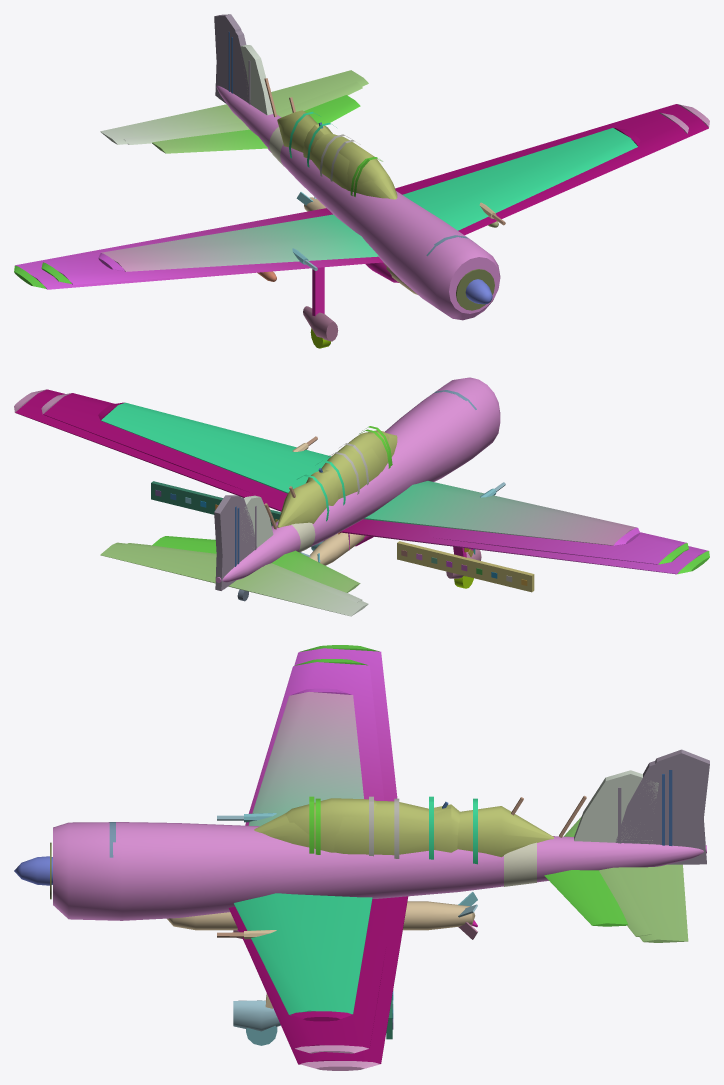
The model's file is planes.glb.
3 views of the same model, one above another, from view 1: azimuth 30°, elevation 25°; view 2: azimuth 150°, elevation 25°; view 3: azimuth 270°, elevation 25° (orthographic). The views are drawn at different scales.
Visible parts, largest first — view 1: attack, fighter, bomber; view 2: attack, fighter, bomber; view 3: attack, fighter, bomber.
Part boxes in pixels (x1,y1,x2,y2): attack: [14, 14, 709, 320]; fighter: [98, 45, 640, 282]; bomber: [41, 29, 688, 348]; attack: [14, 377, 709, 616]; fighter: [98, 402, 639, 592]; bomber: [41, 393, 688, 602]; attack: [14, 645, 709, 1070]; fighter: [217, 688, 658, 1021]; bomber: [51, 659, 701, 1053].
Size of the model in its own units: 15.86 by 4.34 by 11.07.
